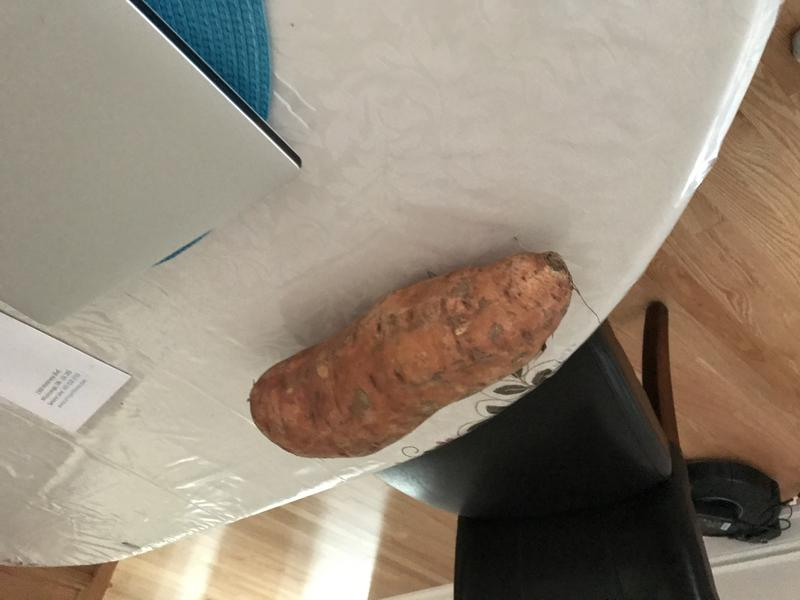sweet_potato: (243, 242, 586, 469)
